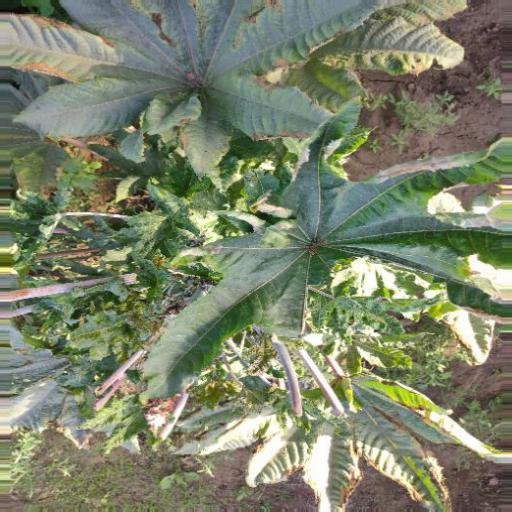weed: (10, 8, 493, 491)
